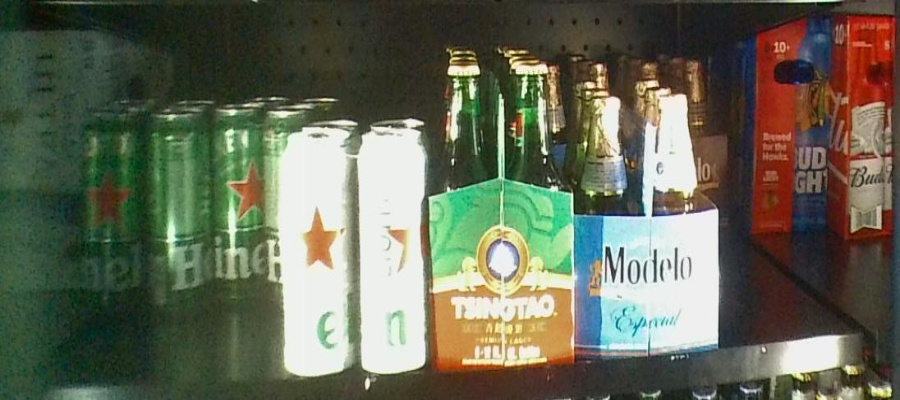bottle: (429, 59, 576, 368), (579, 94, 719, 345), (282, 132, 424, 375), (80, 105, 213, 308), (209, 105, 280, 291), (685, 61, 731, 223)
